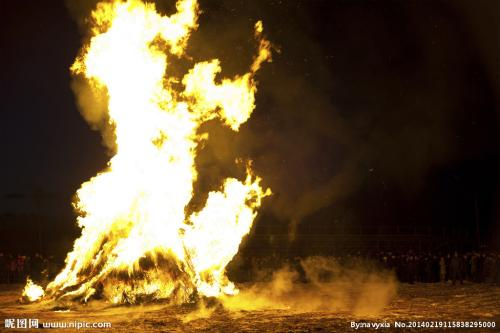fire: (96, 21, 194, 247)
